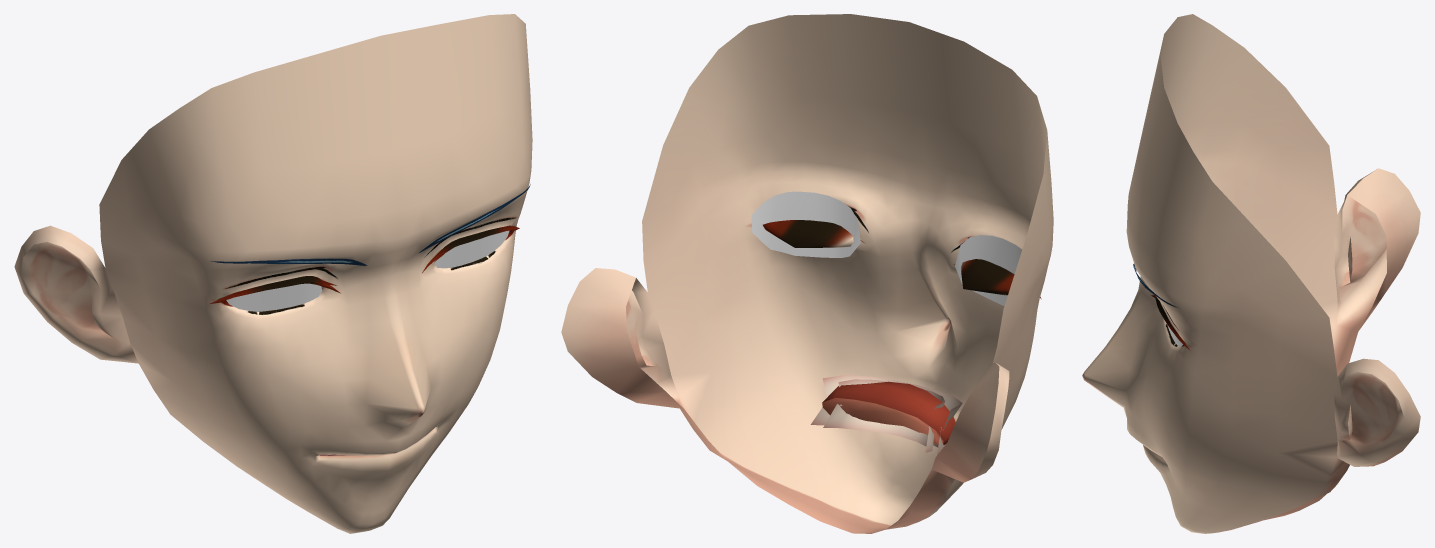
File: Himeru.fbx
3 views of the same model, side by side, from view 1: azimuth 30°, elevation 25°; view 2: azimuth 150°, elevation 25°; view 3: azimuth 270°, elevation 25° (orthographic). The views are drawn at different scales.
Visible parts, largest first — view 1: M_Head, M_Eye_B_Def, M_Mth_B_Def, M_PupALL_R_A_Def, M_PupALL_L_A_Def, M_Brw_B_Def; view 2: M_Head, M_Eye_B_Def, M_Mth_B_Def, M_PupALL_L_A_Def, M_PupALL_R_A_Def; view 3: M_Head, M_Eye_B_Def, M_Mth_B_Def.
Boxes of the visible parts, left/top/right/bottom form: M_Head: left=14, top=14, right=532, bottom=400; M_Eye_B_Def: left=153, top=140, right=532, bottom=415; M_Mth_B_Def: left=139, top=360, right=490, bottom=533; M_PupALL_R_A_Def: left=226, top=283, right=322, bottom=311; M_PupALL_L_A_Def: left=434, top=230, right=509, bottom=268; M_Brw_B_Def: left=210, top=184, right=530, bottom=266; M_Head: left=561, top=14, right=1053, bottom=482; M_Eye_B_Def: left=693, top=138, right=1053, bottom=417; M_Mth_B_Def: left=679, top=320, right=1015, bottom=533; M_PupALL_L_A_Def: left=751, top=191, right=860, bottom=257; M_PupALL_R_A_Def: left=955, top=235, right=1021, bottom=306; M_Head: left=1127, top=14, right=1420, bottom=466; M_Eye_B_Def: left=1082, top=122, right=1243, bottom=449; M_Mth_B_Def: left=1082, top=324, right=1357, bottom=533.
Bounding box in the file's own units: 0.1625 × 0.1734 × 0.1124.
5 materials, 3 textured.
